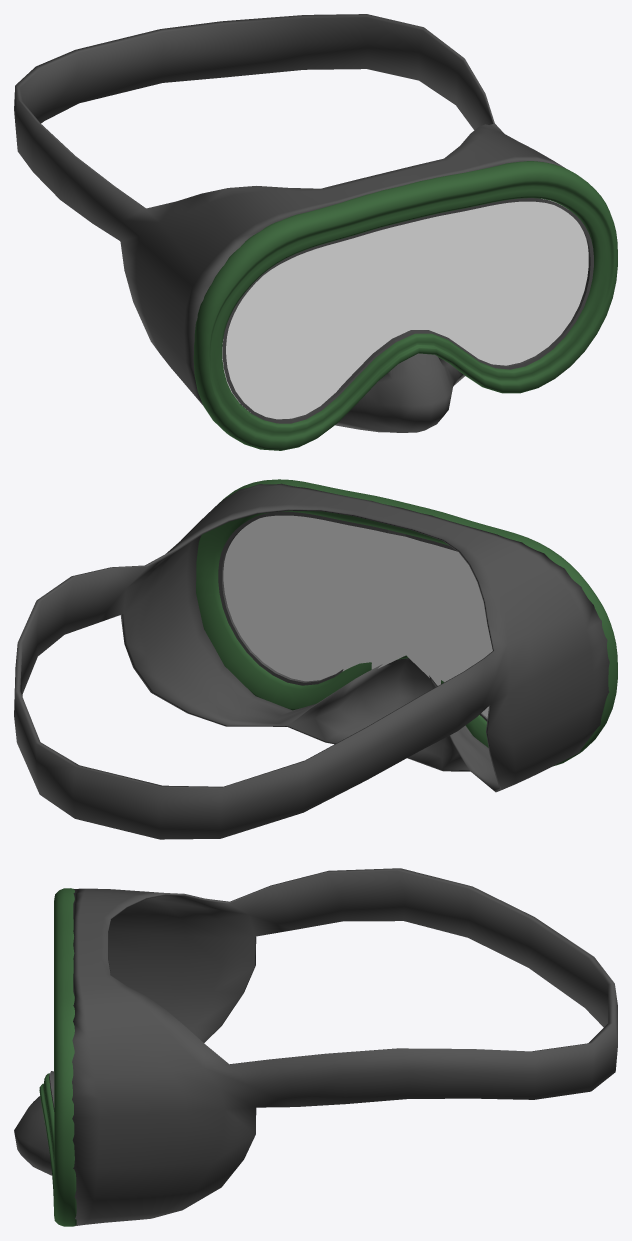
The model's file is Mask1.fbx.
3 views of the same model, one above another, from view 1: azimuth 30°, elevation 25°; view 2: azimuth 150°, elevation 25°; view 3: azimuth 270°, elevation 25° (orthographic). The views are drawn at different scales.
Parts seen in each view (by area): view 1: MSH_Color; view 2: MSH_Color; view 3: MSH_Color.
Boxes of the visible parts, left/top/right/bottom form: MSH_Color: left=14, top=14, right=617, bottom=450; MSH_Color: left=14, top=479, right=617, bottom=839; MSH_Color: left=14, top=868, right=617, bottom=1226.
Bounding box in the file's own units: 157 × 88.6 × 206.
